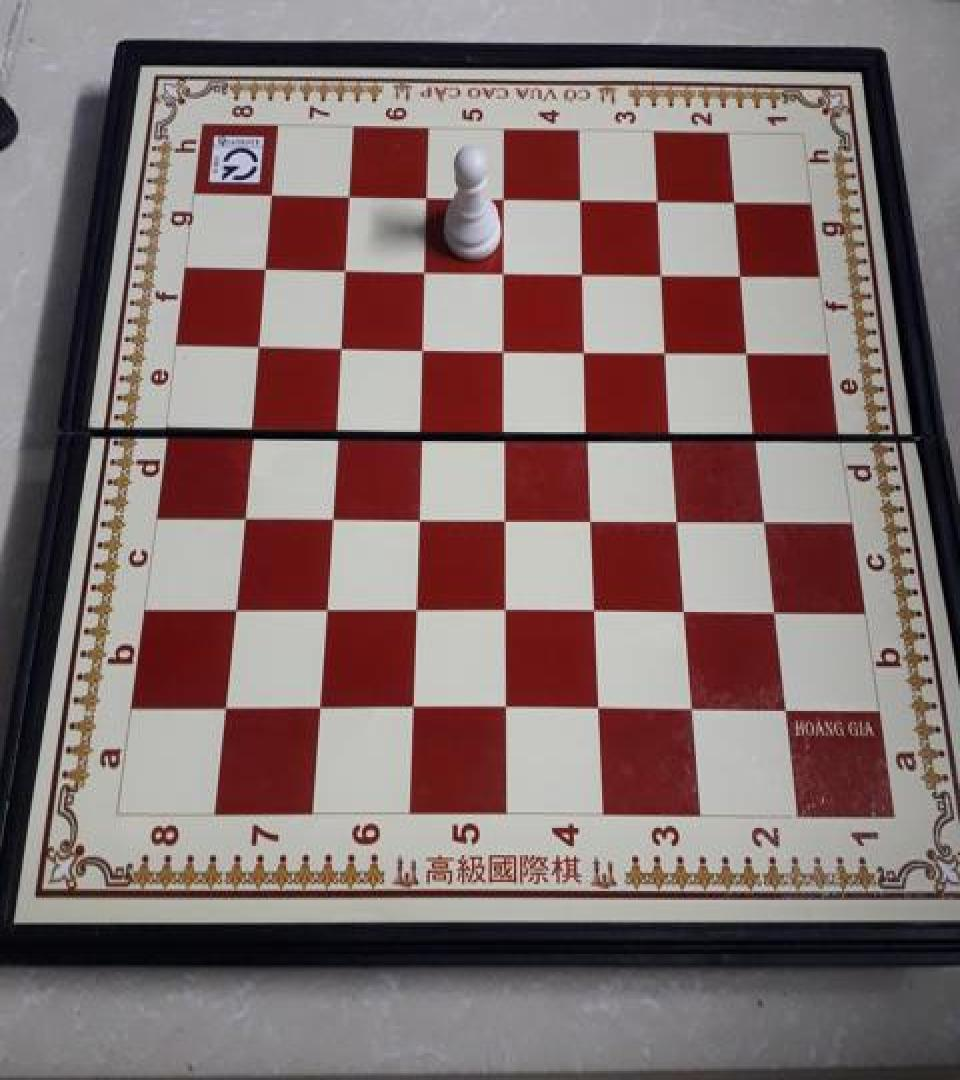xcorner: (306, 688, 338, 725), (400, 689, 432, 726), (493, 689, 525, 726), (220, 588, 252, 625), (212, 688, 244, 724), (586, 691, 618, 727), (679, 692, 711, 728), (772, 692, 804, 728), (312, 590, 344, 626), (402, 590, 434, 626), (493, 590, 525, 626), (583, 592, 615, 628), (672, 593, 704, 629), (761, 594, 793, 630), (229, 495, 261, 531), (317, 496, 349, 532), (405, 497, 437, 533), (492, 498, 524, 534), (579, 500, 611, 536), (666, 500, 698, 536), (752, 502, 784, 538), (236, 407, 268, 443), (322, 410, 354, 446), (407, 410, 439, 446), (491, 412, 523, 448), (576, 413, 608, 449), (660, 414, 692, 450), (743, 415, 775, 451), (244, 326, 276, 362), (326, 328, 358, 364), (491, 330, 523, 366), (572, 331, 604, 367), (654, 333, 686, 369), (735, 334, 767, 370), (250, 248, 282, 284), (331, 251, 363, 287), (411, 252, 443, 288), (490, 253, 522, 289), (569, 254, 601, 290), (648, 256, 680, 292), (727, 258, 759, 294), (257, 176, 289, 212), (335, 178, 367, 214), (412, 180, 444, 216), (490, 181, 522, 217), (567, 182, 599, 218), (643, 184, 675, 220), (409, 329, 441, 364), (720, 186, 752, 221)
